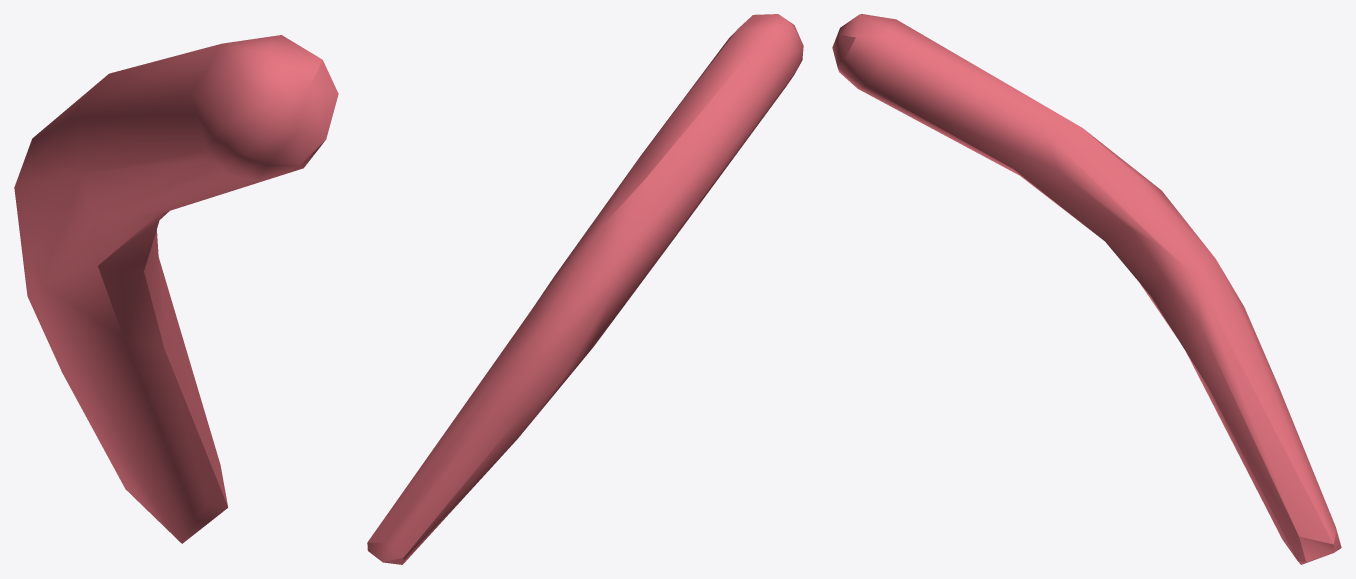
Rendered from fma8670_fj3063.glb.
3 views of the same model, side by side, from view 1: azimuth 30°, elevation 25°; view 2: azimuth 150°, elevation 25°; view 3: azimuth 270°, elevation 25° (orthographic). The views are drawn at different scales.
Visible parts, largest first — view 1: FMA8670_FJ3063; view 2: FMA8670_FJ3063; view 3: FMA8670_FJ3063.
Boxes of the visible parts, x1,y1,x2,y2 form: FMA8670_FJ3063: (14, 35, 338, 543); FMA8670_FJ3063: (367, 14, 803, 564); FMA8670_FJ3063: (832, 14, 1341, 564).
Size of the model in its own units: 0.00879 by 0.0171 by 0.017.
